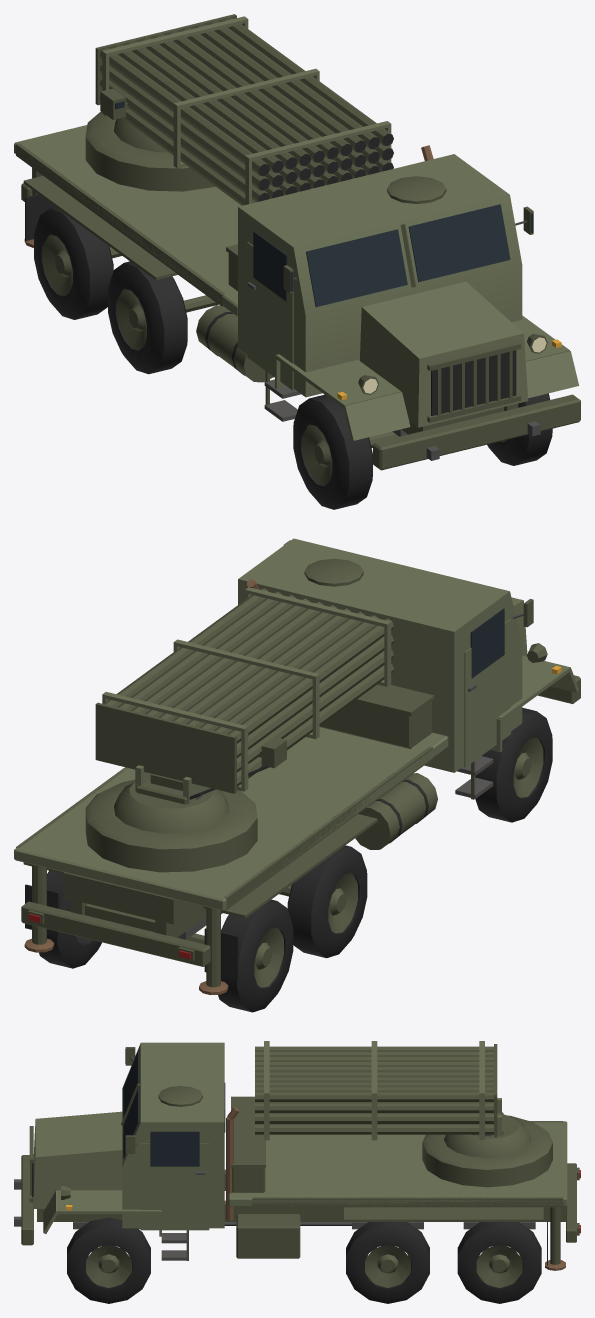
Rendered from Enemy_Rocket.fbx.
The picture shows the model from 3 angles, top to bottom: view 1: azimuth 30°, elevation 25°; view 2: azimuth 150°, elevation 25°; view 3: azimuth 270°, elevation 25°; orthographic projection. The views are drawn at different scales.
Visible parts, largest first — view 1: Enemy_Rocket_Mesh, Turret; view 2: Enemy_Rocket_Mesh, Turret; view 3: Enemy_Rocket_Mesh, Turret.
Boxes of the visible parts, box(x1,y1,x2,y2) form: Enemy_Rocket_Mesh: box(14, 111, 580, 509); Turret: box(95, 14, 393, 205); Enemy_Rocket_Mesh: box(14, 538, 580, 1012); Turret: box(95, 587, 393, 804); Enemy_Rocket_Mesh: box(14, 1042, 580, 1303); Turret: box(255, 1041, 503, 1140).
Bounding box in the file's own units: 2.66 × 2.76 × 7.11.
